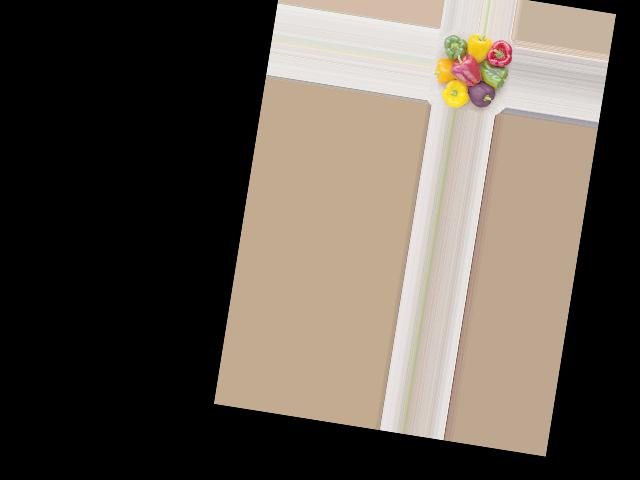bell_pepper: (465, 74, 504, 109)
